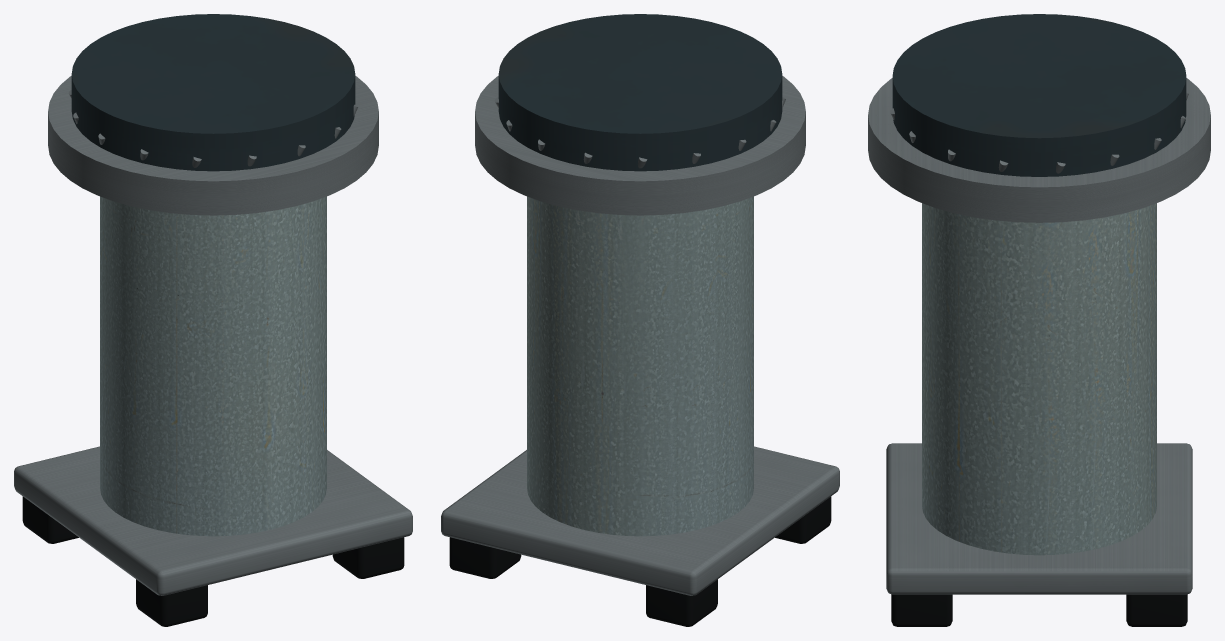
The model's file is NC_RoofExtractor_LOD0.fbx.
3 views of the same model, side by side, from view 1: azimuth 30°, elevation 25°; view 2: azimuth 150°, elevation 25°; view 3: azimuth 270°, elevation 25° (orthographic). The views are drawn at different scales.
Visible parts, largest first — view 1: NC_RoofExtractor_LOD0; view 2: NC_RoofExtractor_LOD0; view 3: NC_RoofExtractor_LOD0.
Boxes of the visible parts, x1,y1,x2,y2 form: NC_RoofExtractor_LOD0: (14,14,412,626); NC_RoofExtractor_LOD0: (441,14,839,626); NC_RoofExtractor_LOD0: (868,14,1210,626).
Bounding box in the file's own units: 140 × 221 × 140.
